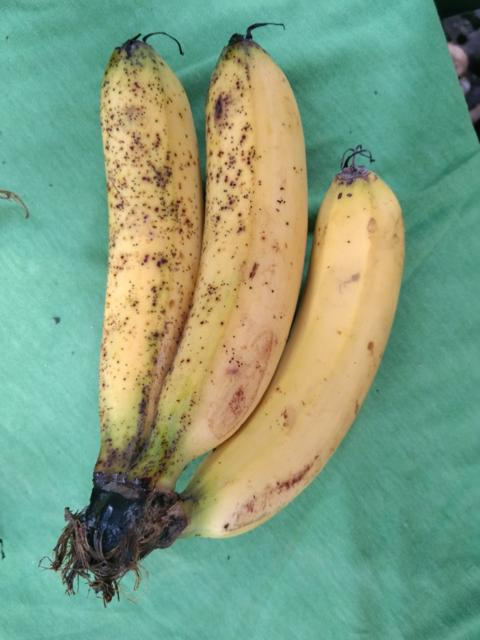freshripe: (193, 152, 409, 544)
ripe: (138, 24, 314, 481), (69, 27, 192, 470)
